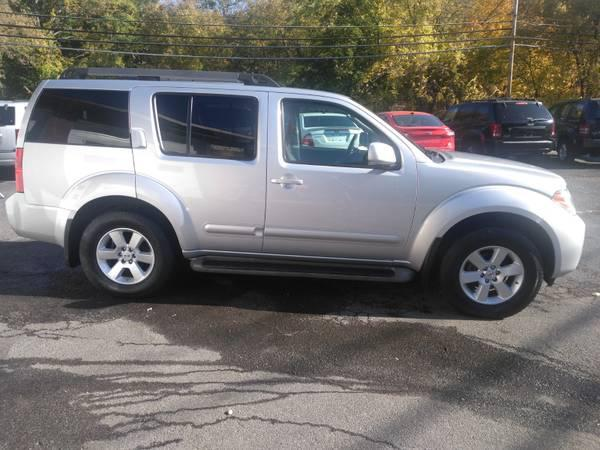Front_Bumper: (538, 203, 586, 279)
Front_Fender: (406, 156, 559, 272)
Front_Right_Door: (263, 165, 418, 265)
Front_Right_Window: (270, 97, 417, 176)
Rear_Bumper: (4, 192, 77, 251)
Rear_Fender: (22, 88, 135, 212)
Rear_Right_Door: (135, 152, 267, 254)
Rear_Right_Window: (129, 92, 269, 162)
Right_Headlight: (550, 185, 574, 214)
Right_Taillight: (14, 147, 22, 192)
Roof: (17, 79, 427, 161)
Wheel: (444, 225, 548, 319), (79, 211, 177, 299)
